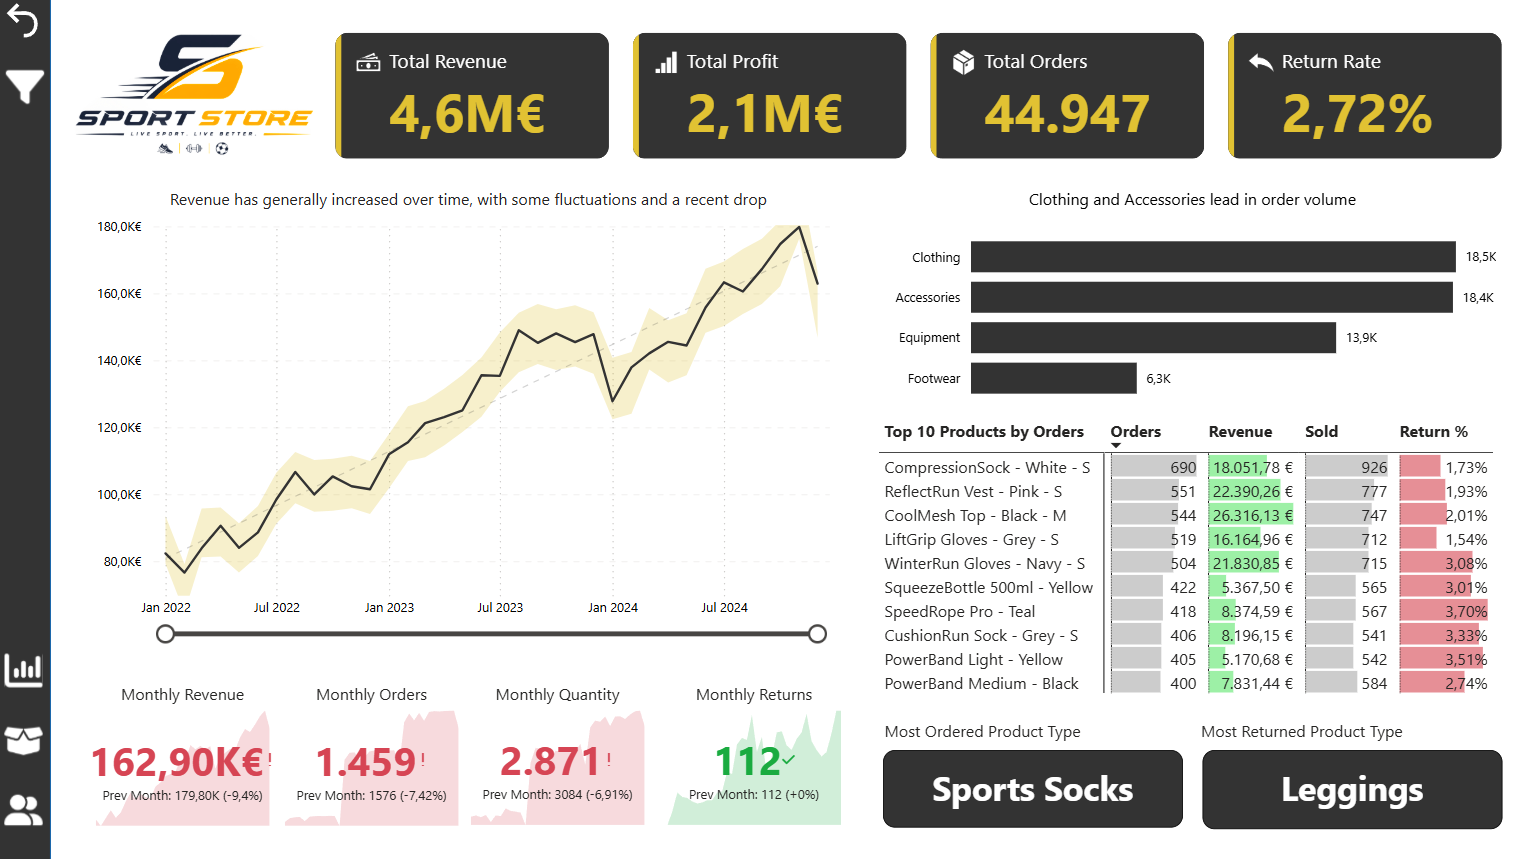

The dashboard page shown, as its layout file describes it:
{"tool":"powerbi","page":{"name":"Overview","canvas":[1280,720],"ordinal":0},"visuals":[{"type":"shape","box":[0,0,44.3,720],"z":0},{"type":"image","box":[43.6,7.8,238.2,144.8],"z":1000},{"type":"lineChart","title":"Revenue Over Time","fields":{"Y":["DAX Measures.Total Revenue"],"Category":["Dim_Calendar.Start of Month"]},"box":[75.7,158.6,631.4,382.9],"z":2000},{"type":"textbox","box":[998,596.3,227.5,32.5],"z":3000},{"type":"textbox","box":[734.3,596.3,227.5,32.5],"z":4000},{"type":"cardVisual","fields":{"Data":["DAX Measures.Total Revenue","DAX Measures.Total Profit","DAX Measures.Total Orders","DAX Measures.Return Rate"]},"box":[264.3,12.9,1007.1,140],"z":5000},{"type":"barChart","title":"Orders by Category","fields":{"Category":["Dim_Product_Category.CategoryName"],"Y":["DAX Measures.Total Orders"]},"box":[737.6,159,515.8,191.1],"z":6000},{"type":"pivotTable","fields":{"Values":["DAX Measures.Total Orders","DAX Measures.Total Revenue","DAX Measures.Quantity Sold","DAX Measures.Return Rate"],"Rows":["Dim_Product.ProductName"]},"box":[728.6,345.7,532.9,252.9],"z":7000},{"type":"kpi","title":"Monthly Revenue","fields":{"Goal":["DAX Measures.Previous Month Revenue"],"Indicator":["DAX Measures.Total Revenue"],"TrendLine":["Dim_Calendar.Start of Month"]},"box":[75.7,571.9,155,124.3],"z":8000},{"type":"kpi","title":"Monthly Orders","fields":{"Goal":["DAX Measures.Previous Month Orders"],"Indicator":["DAX Measures.Total Orders"],"TrendLine":["Dim_Calendar.Start of Month"]},"box":[233.4,571.9,155,124.3],"z":9000},{"type":"kpi","title":"Monthly Quantity","fields":{"Goal":["DAX Measures.Previous Month Quantity"],"Indicator":["DAX Measures.Quantity Sold"],"TrendLine":["Dim_Calendar.Start of Month"]},"box":[388.3,571.9,155,123.8],"z":10000},{"type":"kpi","title":"Monthly Returns","fields":{"Goal":["DAX Measures.Previous Month Returns"],"Indicator":["DAX Measures.Total Returns"],"TrendLine":["Dim_Calendar.Start of Month"]},"box":[552,571.9,155,123.8],"z":11000},{"type":"card","fields":{"Values":["Min(Dim_Product_Subcategory.SubcategoryName)"]},"box":[738,627.5,250,65],"z":12000},{"type":"card","fields":{"Values":["Min(Dim_Product_Subcategory.SubcategoryName)"]},"box":[1003.4,627.5,250,65.7],"z":13000},{"type":"actionButton","box":[1.4,0,44.3,38.6],"z":14000},{"type":"actionButton","box":[1.4,541.4,45.7,40],"z":14500},{"type":"actionButton","box":[1.4,600,44.3,40],"z":14750},{"type":"actionButton","box":[2,55,44.3,40],"z":15000},{"type":"actionButton","box":[1.4,657.1,45.7,40],"z":15500}]}

Visuals, with their boxes on the page's 1280x720 design canvas (x1, y1, x2, y2). These are canvas units, not pixel positions in the 1532x859 screenshot, which may show the page scaled, cropped or inside an application window:
shape: {"left": 0, "top": 0, "right": 44, "bottom": 720}
image: {"left": 44, "top": 8, "right": 282, "bottom": 153}
"Revenue Over Time" lineChart: {"left": 76, "top": 159, "right": 707, "bottom": 542}
textbox: {"left": 998, "top": 596, "right": 1226, "bottom": 629}
textbox: {"left": 734, "top": 596, "right": 962, "bottom": 629}
cardVisual - DAX Measures.Total Revenue x DAX Measures.Total Profit: {"left": 264, "top": 13, "right": 1271, "bottom": 153}
"Orders by Category" barChart: {"left": 738, "top": 159, "right": 1253, "bottom": 350}
pivotTable - DAX Measures.Total Orders x DAX Measures.Total Revenue: {"left": 729, "top": 346, "right": 1262, "bottom": 599}
"Monthly Revenue" kpi: {"left": 76, "top": 572, "right": 231, "bottom": 696}
"Monthly Orders" kpi: {"left": 233, "top": 572, "right": 388, "bottom": 696}
"Monthly Quantity" kpi: {"left": 388, "top": 572, "right": 543, "bottom": 696}
"Monthly Returns" kpi: {"left": 552, "top": 572, "right": 707, "bottom": 696}
card - Min(Dim_Product_Subcategory.SubcategoryName): {"left": 738, "top": 628, "right": 988, "bottom": 692}
card - Min(Dim_Product_Subcategory.SubcategoryName): {"left": 1003, "top": 628, "right": 1253, "bottom": 693}
actionButton: {"left": 1, "top": 0, "right": 46, "bottom": 39}
actionButton: {"left": 1, "top": 541, "right": 47, "bottom": 581}
actionButton: {"left": 1, "top": 600, "right": 46, "bottom": 640}
actionButton: {"left": 2, "top": 55, "right": 46, "bottom": 95}
actionButton: {"left": 1, "top": 657, "right": 47, "bottom": 697}
